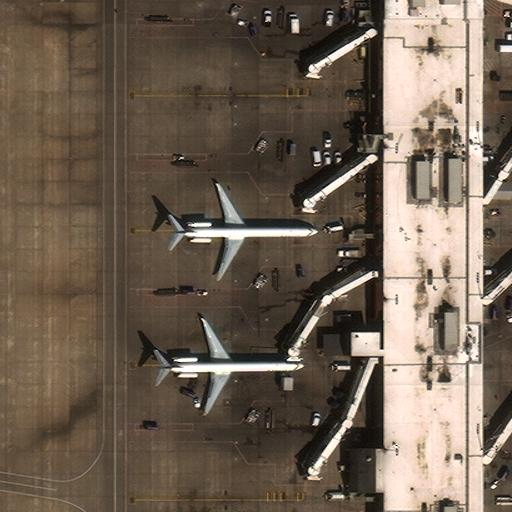Medium Civil Transport: (173, 183, 318, 279), (159, 319, 304, 414)
